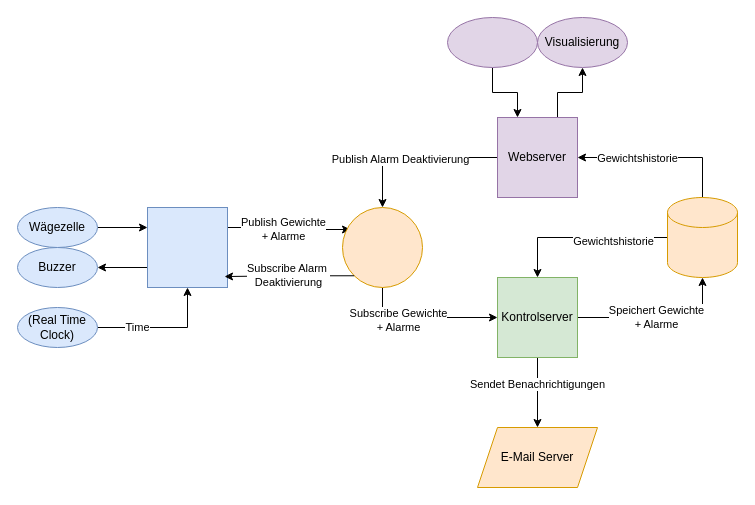
Image size: 755x505. Some labels were removed from this diagram. Each missing label, with the box of its shape:
Datenbank: (666, 196, 738, 278)
Deaktivierung Alarm: (446, 16, 538, 68)
ESP: (146, 206, 228, 288)
MQTT Broker: (342, 206, 422, 288)
